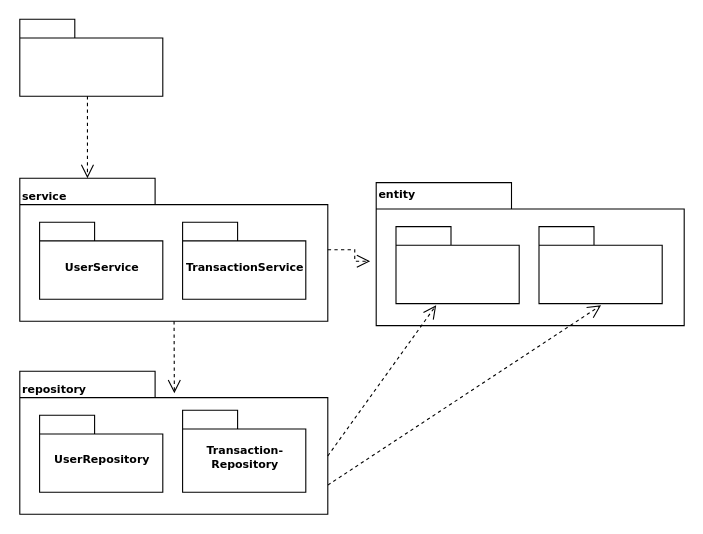
This 703x534 diagram has some shape labels left out. Here are the shapes that lost their labels. From the top down, the centre of each, then its label:
[91,57]: ui
[457,265]: User
[600,265]: Transaction
